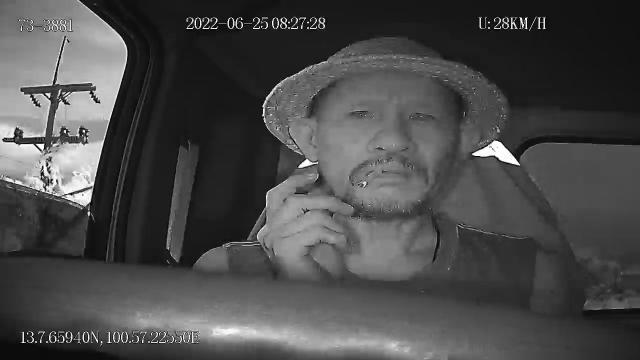SafeDriving: (400, 100, 442, 131), (343, 98, 381, 124)
Smoking: (357, 166, 388, 192)
